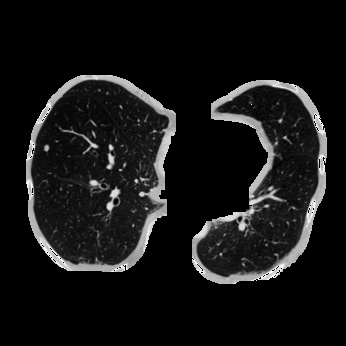PN: (43, 145, 49, 151)
